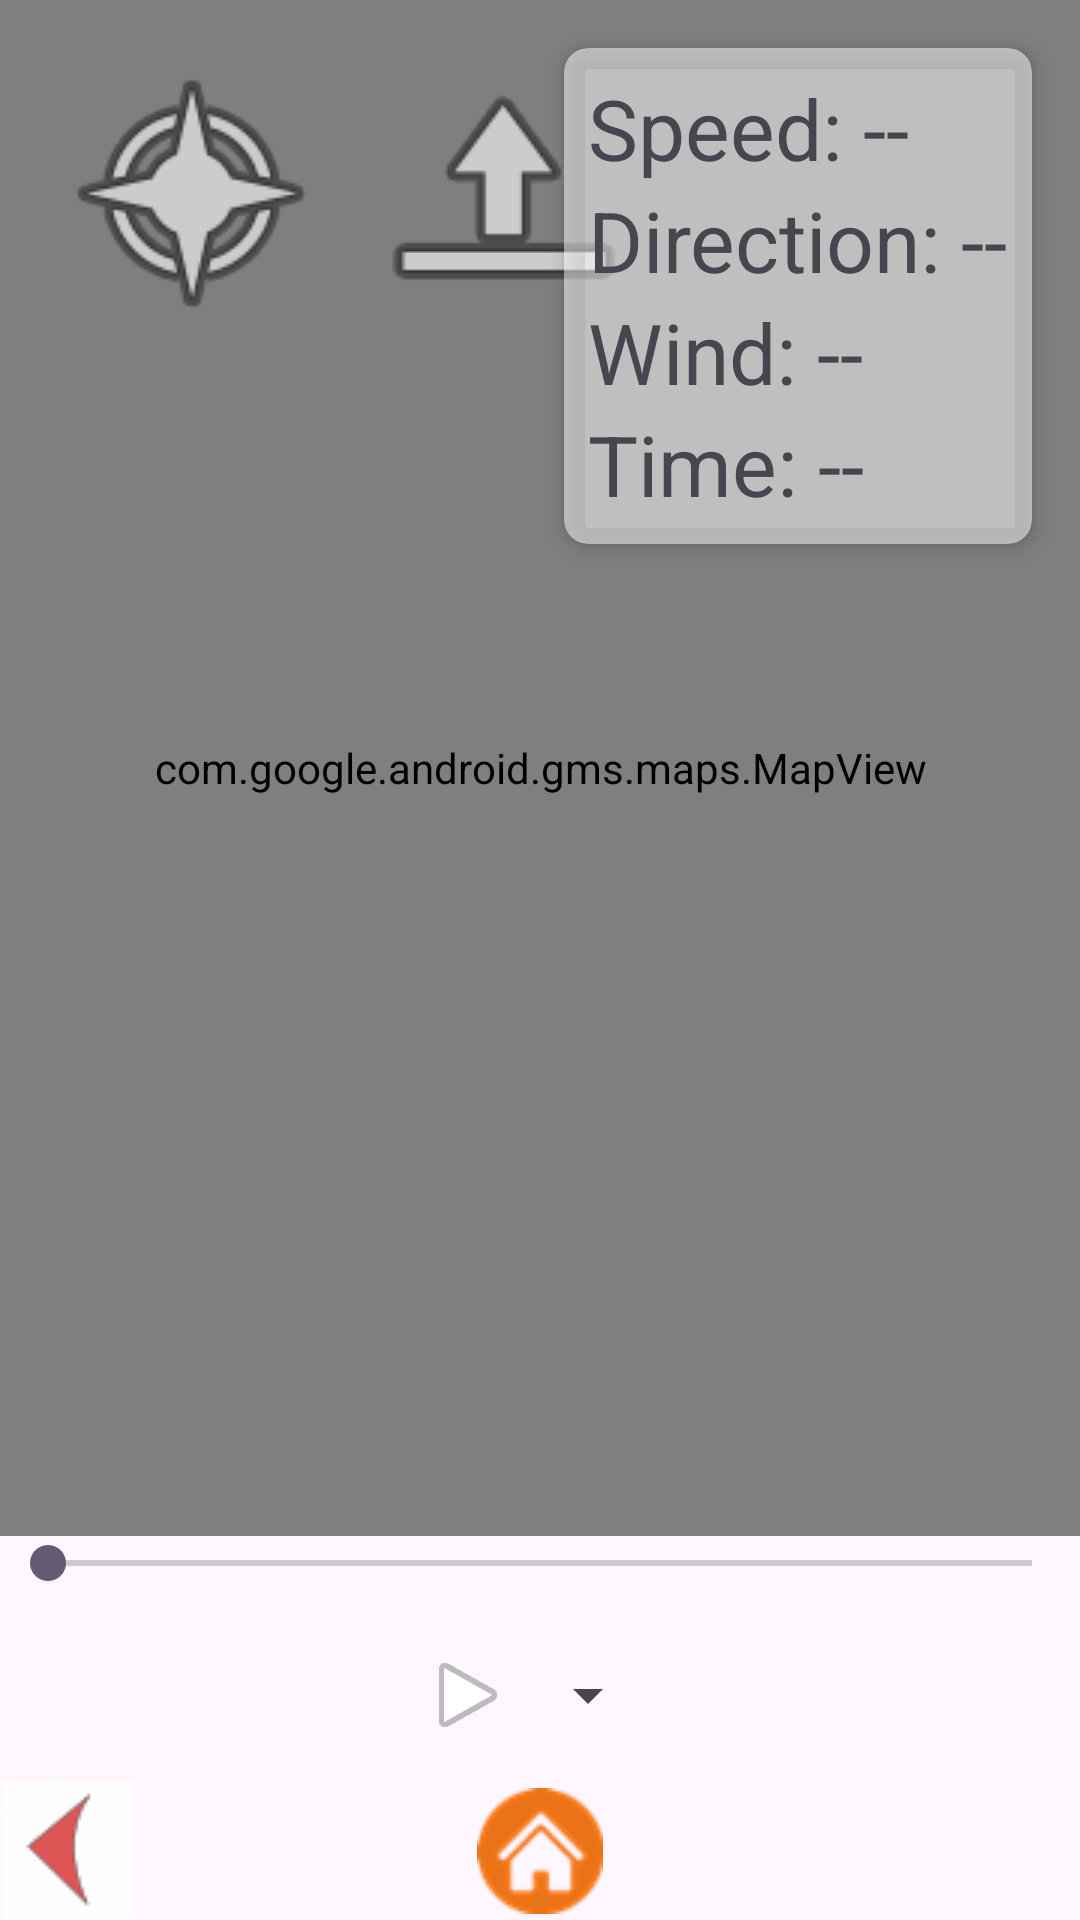

Point at icon controls on the screen. Image size 1080×1920, points as (x=x, y=y).
compass: (x=191, y=193)
Home: (x=540, y=1851)
Left Nav: (x=58, y=1849)
play: (x=468, y=1695)
